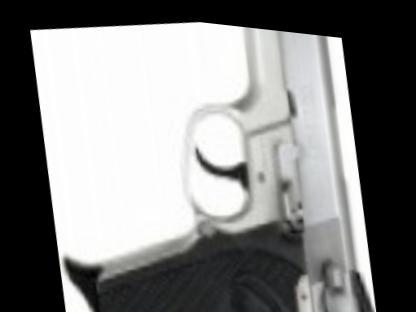pistol: (24, 2, 389, 311)
